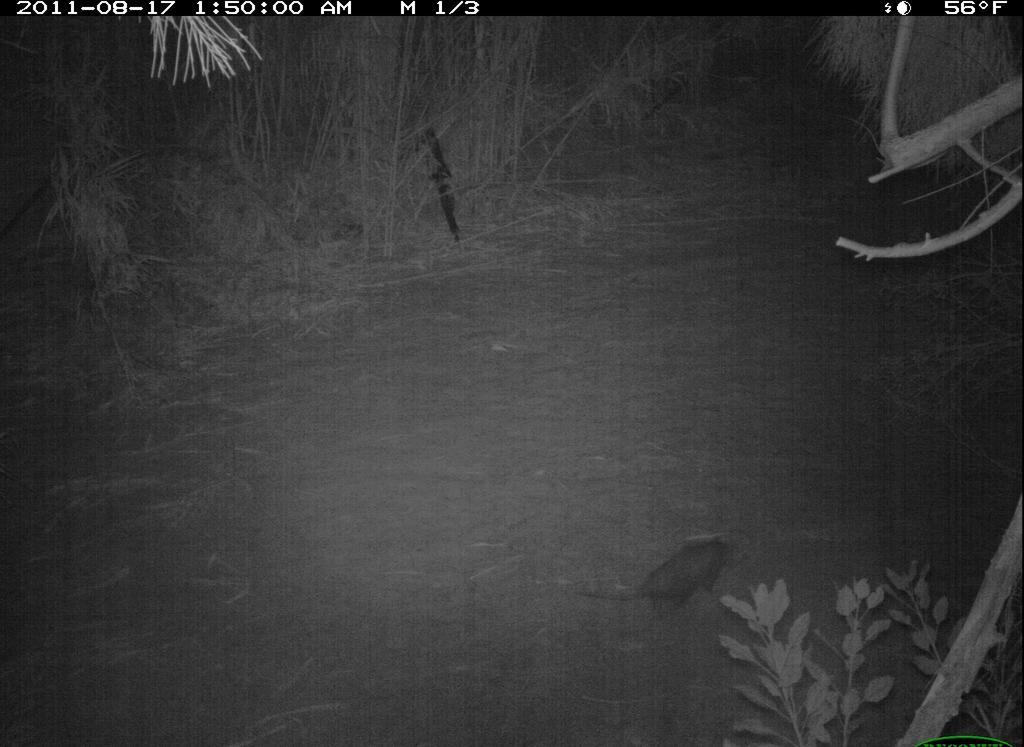opossum: (566, 529, 743, 638)
